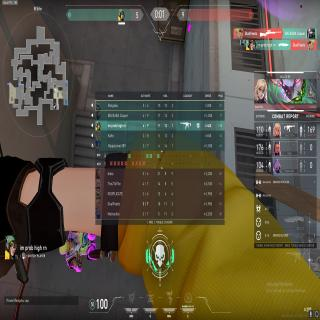ENEMY-HEAD: (66, 253, 74, 257)
